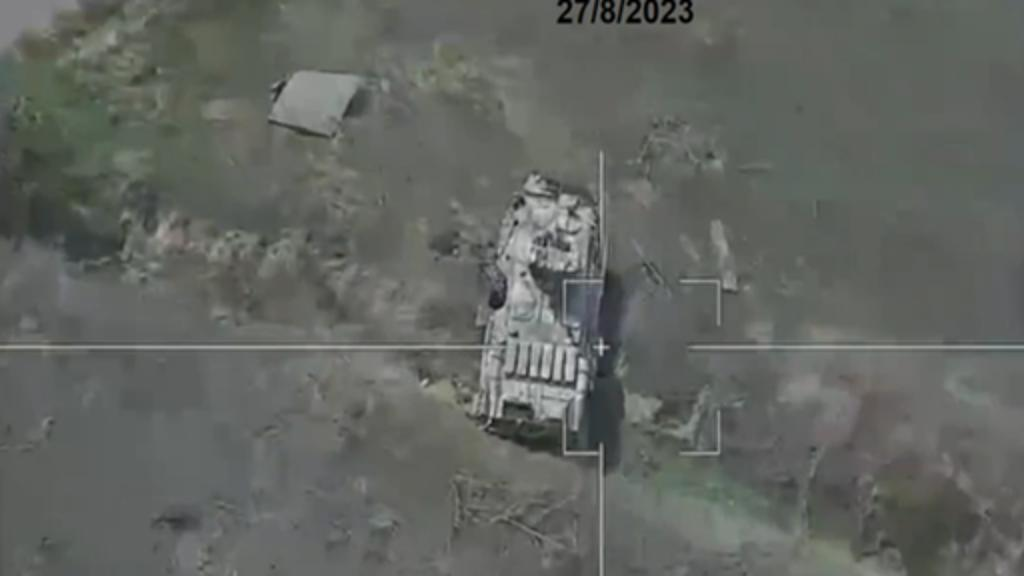APC-IFV: (462, 166, 602, 450)
